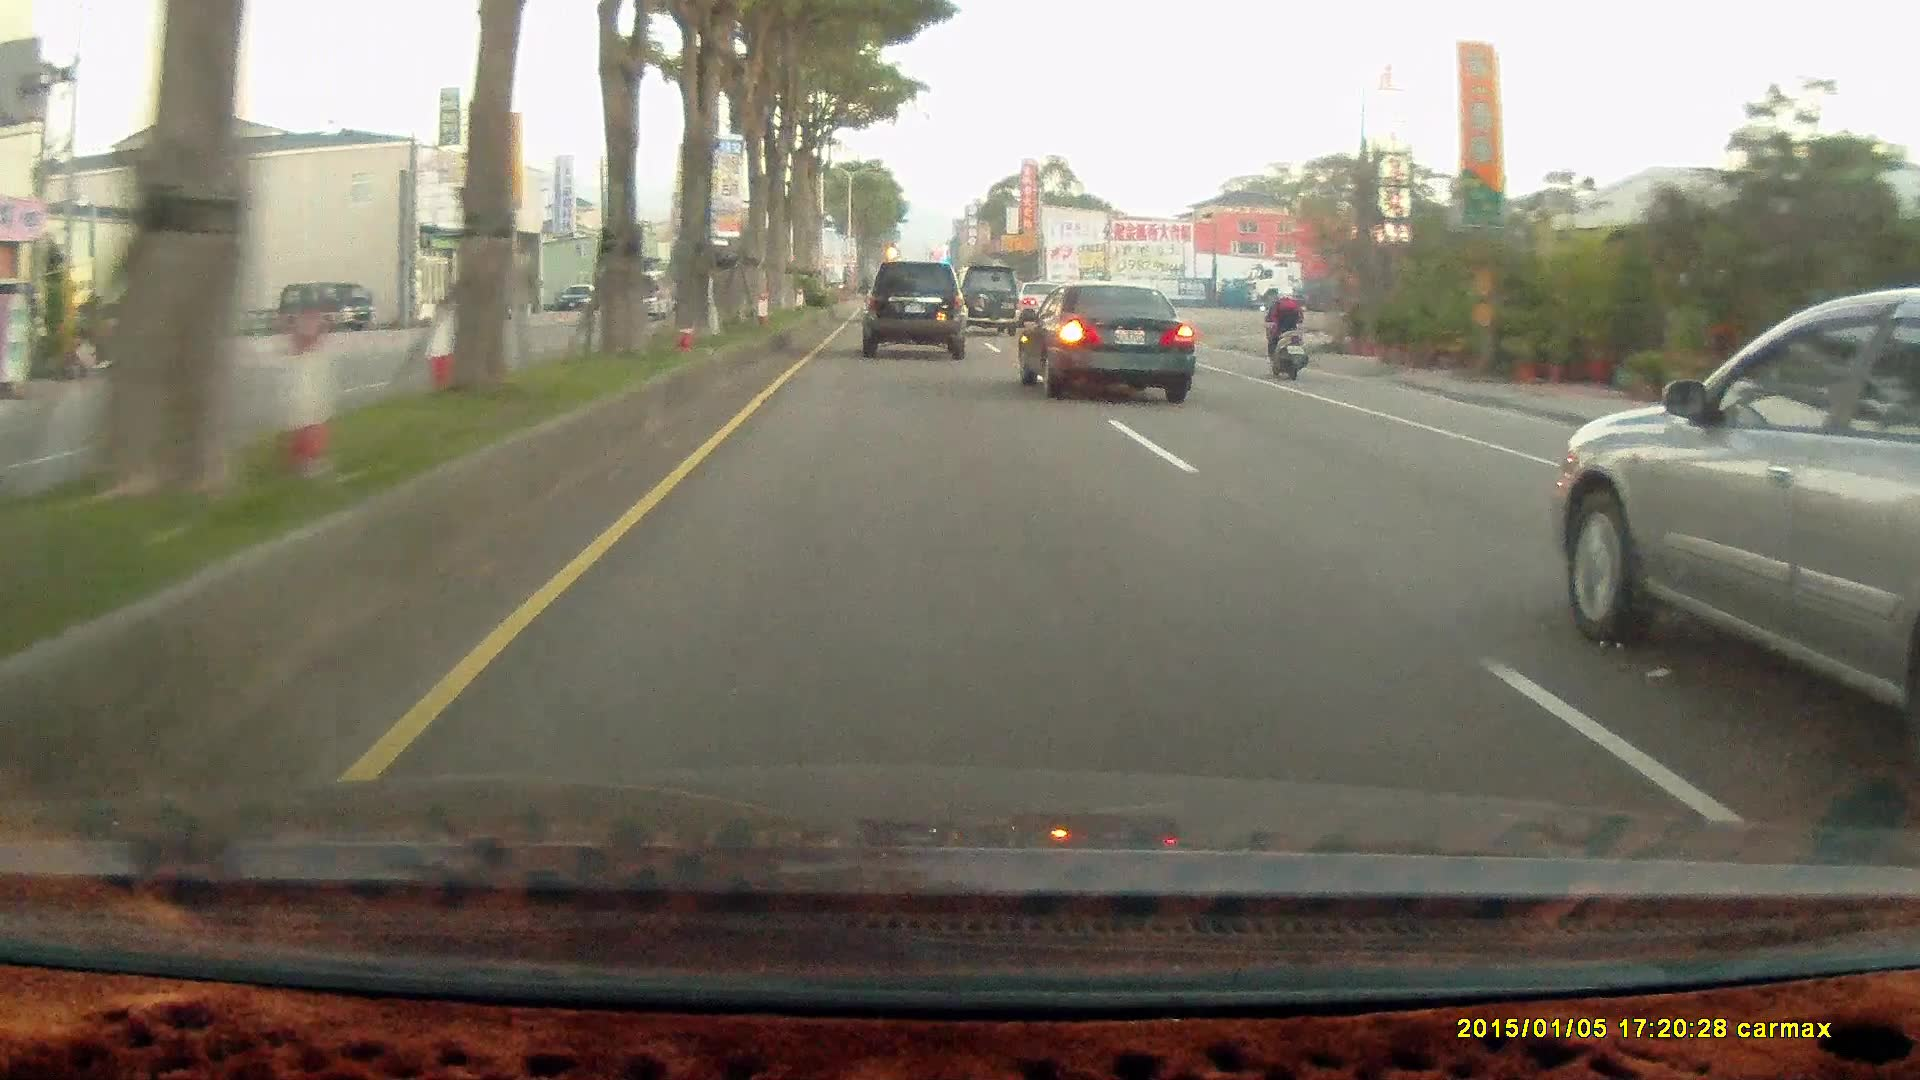rider: (1255, 280, 1320, 389), (1257, 284, 1309, 382)
vehicle: (1546, 296, 1919, 798), (1015, 280, 1196, 404), (1016, 281, 1195, 405), (1252, 259, 1479, 314), (860, 261, 969, 362), (861, 259, 966, 357), (949, 267, 1023, 342), (278, 281, 373, 337), (950, 265, 1024, 336), (277, 281, 371, 333), (607, 268, 674, 320), (557, 284, 597, 309)
